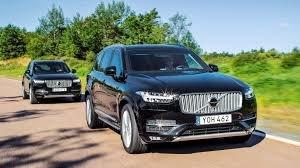license-plates: (198, 114, 233, 125)
